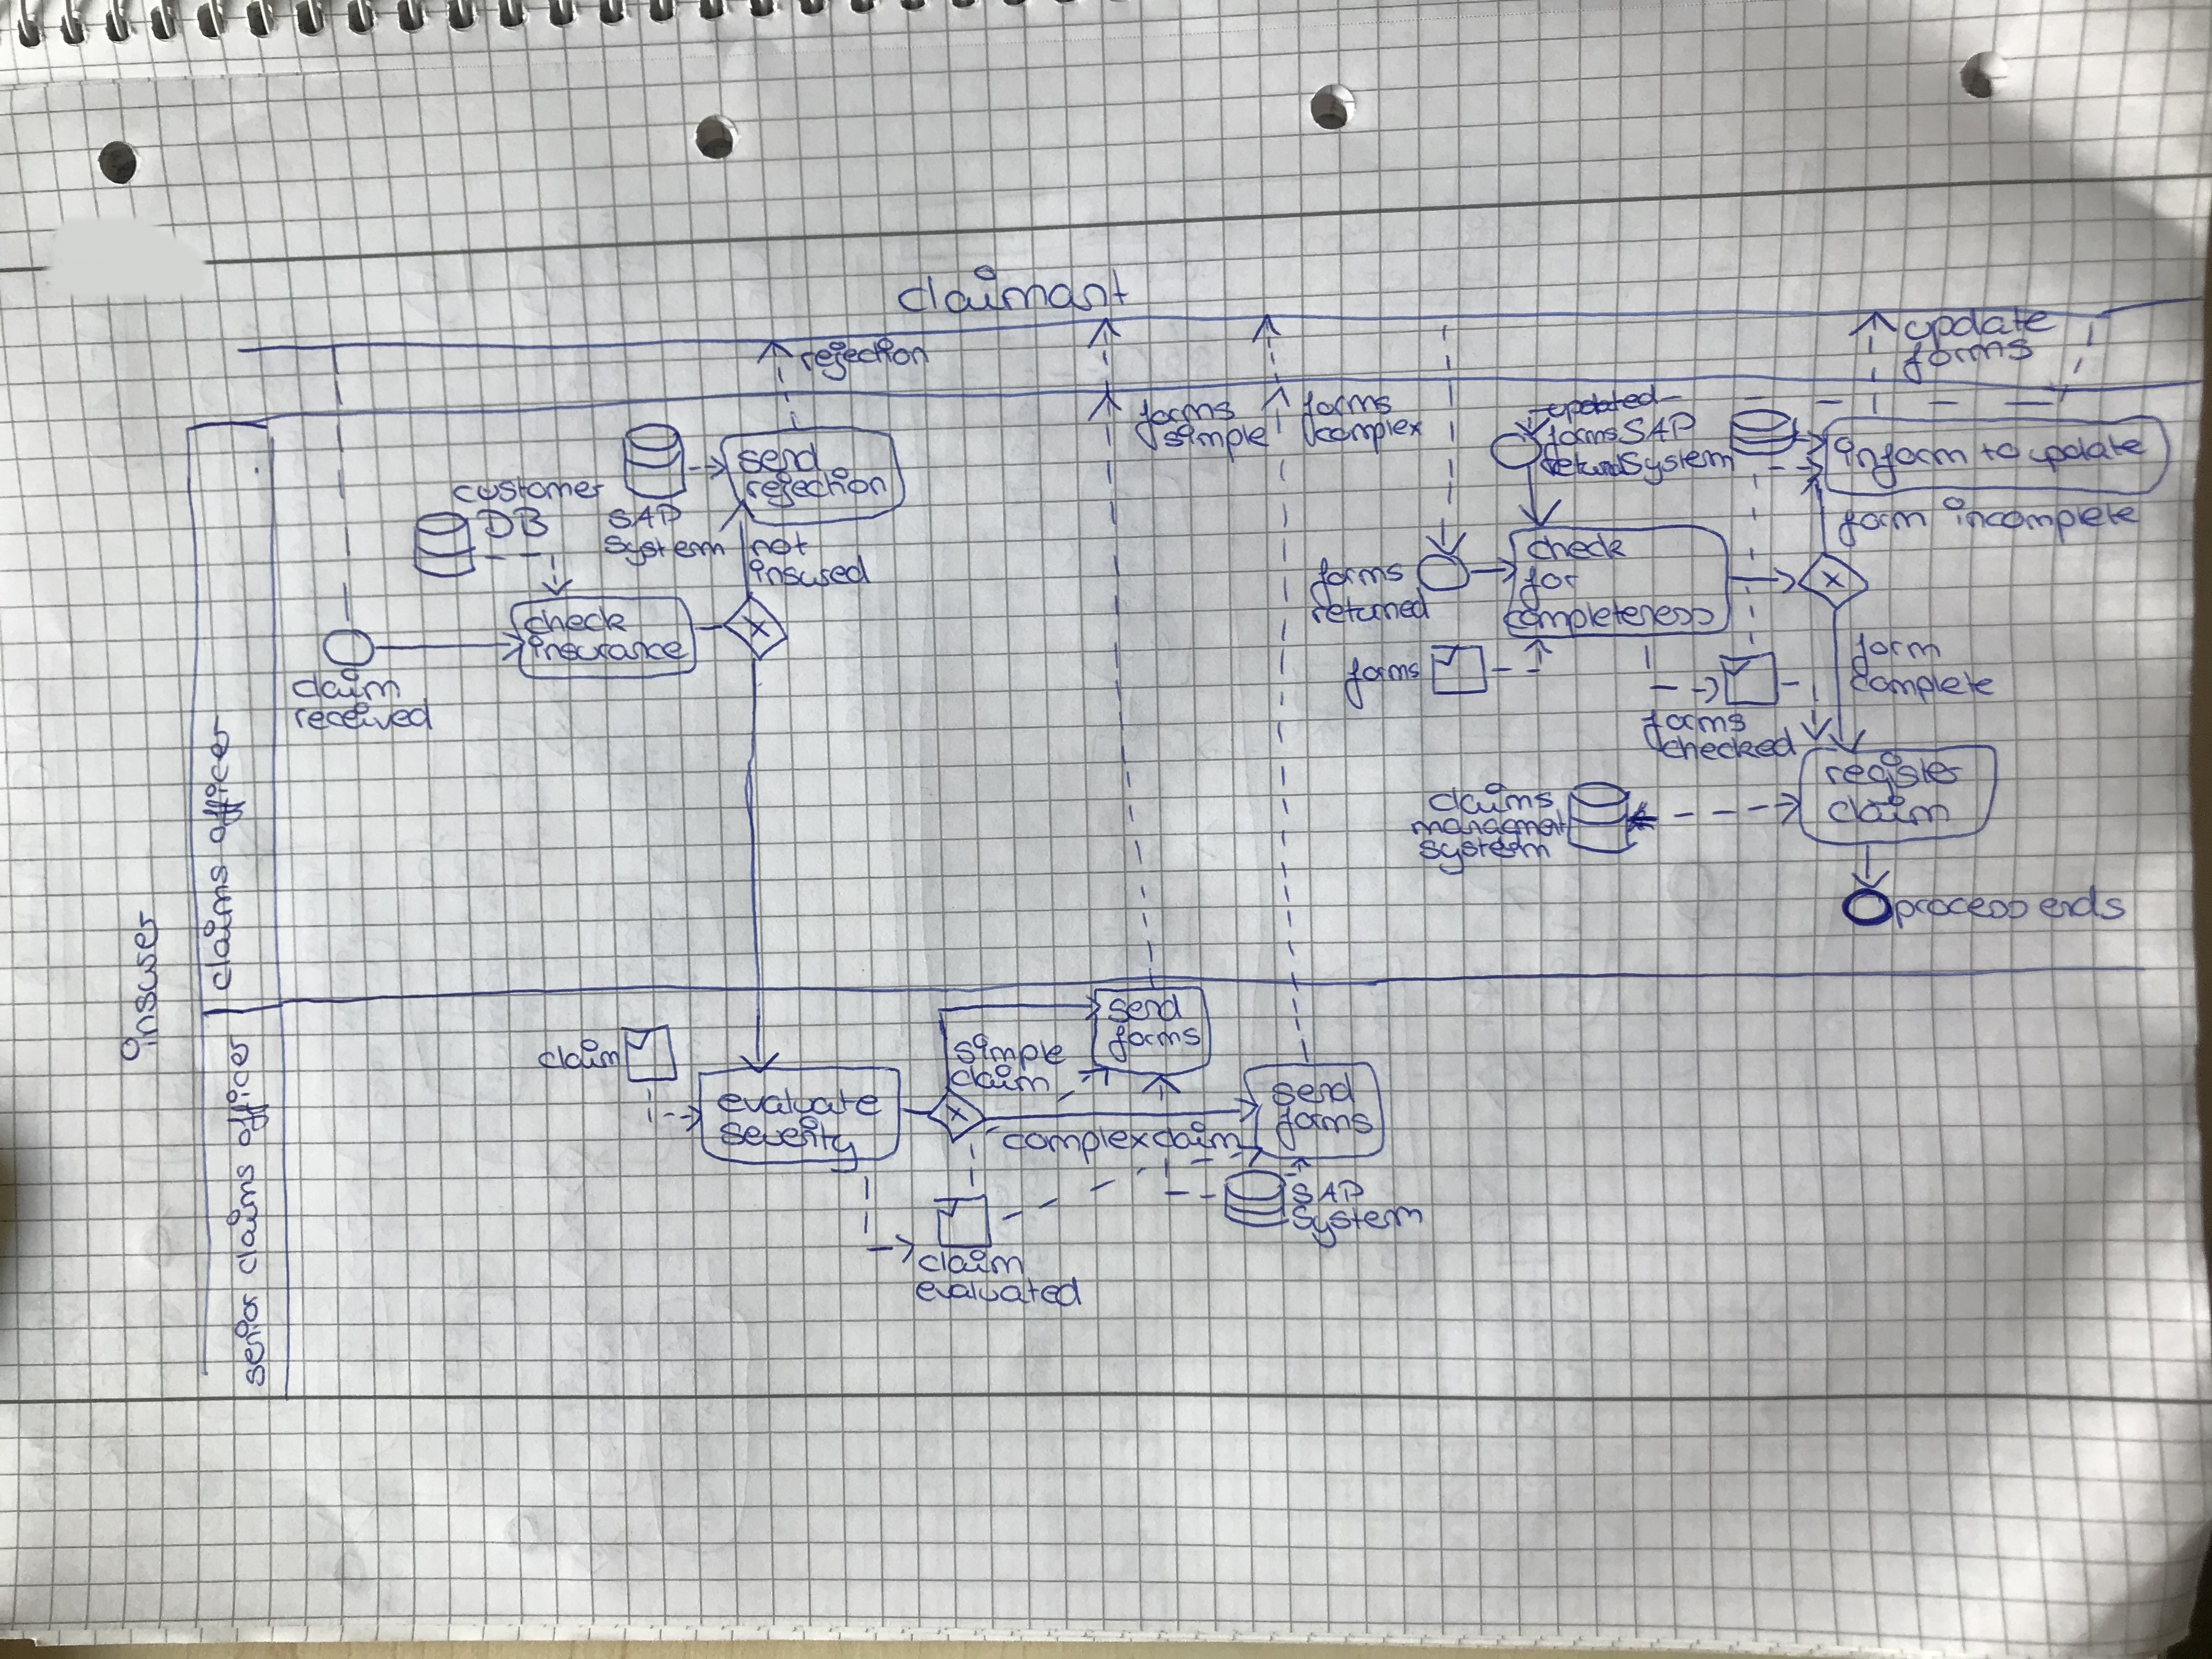DB: (477, 507, 547, 538)
Forms: (1904, 335, 2040, 380)
SAP: (1620, 408, 1695, 446), (610, 497, 681, 532), (1287, 1175, 1364, 1206)
System: (603, 530, 726, 565)
check: (524, 603, 629, 634), (1526, 533, 1622, 565)
checked: (1662, 730, 1796, 765)
claim: (1827, 789, 1952, 828), (918, 1241, 1028, 1281), (291, 669, 401, 702), (536, 1037, 622, 1072), (1157, 1117, 1240, 1150), (954, 1068, 1052, 1093)
claimant: (895, 263, 1127, 317)
claims: (200, 859, 235, 986), (226, 1159, 260, 1274), (1433, 786, 1550, 814)
complete: (1851, 666, 1994, 702)
completeness: (1510, 603, 1714, 629)
complex: (1001, 1121, 1150, 1157), (1312, 411, 1425, 450)
customer: (455, 471, 606, 507)
ends: (2036, 884, 2127, 927)
evaluate: (725, 1087, 883, 1117)
evaluated: (913, 1276, 1082, 1310)
for: (1524, 565, 1580, 594)
form: (1829, 504, 1933, 544), (1848, 631, 1944, 666)
forms: (1306, 551, 1407, 596), (1294, 385, 1399, 425), (1129, 396, 1237, 429), (1278, 1101, 1374, 1138), (1642, 706, 1750, 735), (1341, 650, 1421, 687), (1109, 1025, 1202, 1054), (1543, 415, 1620, 450)
incomplete: (1946, 495, 2142, 533)
inform: (1832, 432, 1970, 476)
insurance: (521, 631, 690, 664)
insured: (752, 556, 869, 586)
insurer: (129, 913, 164, 1056)
managment: (1411, 814, 1571, 838)
not: (752, 532, 808, 558)
officer: (216, 1035, 265, 1145), (199, 727, 240, 842)
process: (1895, 894, 2027, 922)
received: (291, 702, 430, 735)
register: (1824, 758, 1965, 789)
rejection: (738, 467, 887, 507), (789, 335, 932, 369)
returned: (1308, 589, 1430, 622), (1540, 448, 1622, 479)
send: (1275, 1073, 1355, 1110), (740, 439, 822, 472), (1109, 992, 1186, 1026)
senior: (232, 1290, 270, 1380)
severity: (723, 1117, 859, 1159)
simple: (1160, 420, 1271, 453), (958, 1037, 1066, 1065)
system: (1296, 1201, 1425, 1241), (1627, 446, 1737, 479), (1420, 836, 1550, 861)
to: (1980, 437, 2022, 462)
update: (1898, 305, 2059, 342), (2027, 425, 2148, 472)
updated: (1547, 383, 1662, 423)
